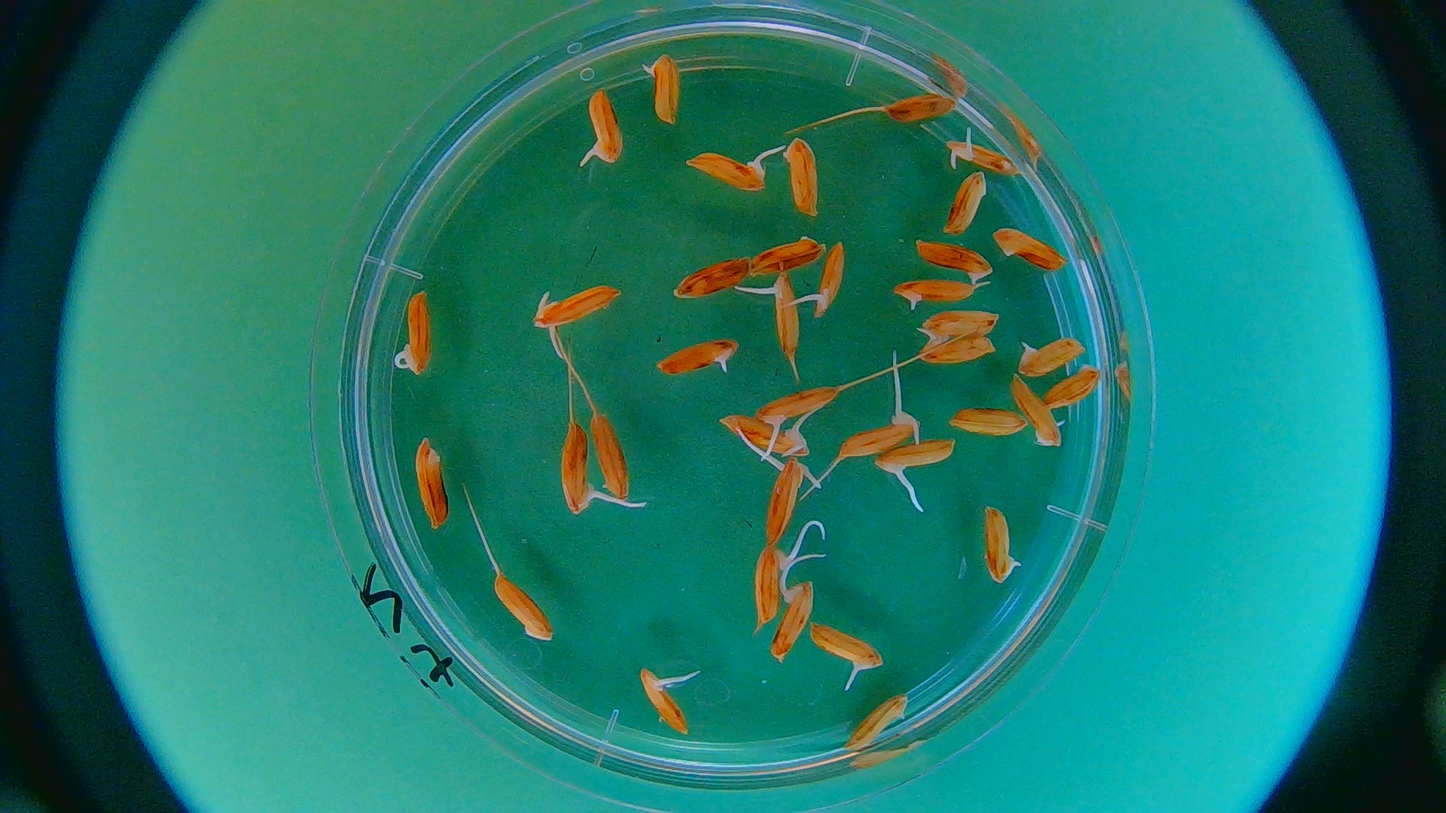no: (840, 695, 911, 751), (494, 571, 553, 638), (1014, 379, 1069, 447), (593, 408, 633, 499), (781, 134, 821, 220), (411, 442, 450, 529), (990, 226, 1066, 269), (981, 506, 1023, 583), (917, 239, 993, 281), (752, 235, 825, 278), (673, 257, 751, 297), (944, 173, 987, 235), (881, 90, 954, 125), (1044, 366, 1100, 411), (948, 407, 1026, 435), (915, 311, 1005, 335)
yes: (638, 669, 697, 736), (770, 577, 816, 662), (532, 285, 620, 327), (724, 416, 816, 456), (580, 87, 627, 165), (755, 382, 840, 425), (813, 620, 881, 671), (764, 456, 805, 540), (836, 414, 916, 457), (657, 336, 740, 376), (753, 544, 792, 626), (560, 422, 595, 513), (685, 152, 773, 188), (396, 288, 431, 372), (1017, 336, 1085, 379), (877, 440, 956, 477), (946, 136, 1017, 177), (811, 240, 849, 315), (773, 271, 807, 353), (643, 53, 681, 122), (917, 333, 996, 364), (894, 280, 974, 309)
